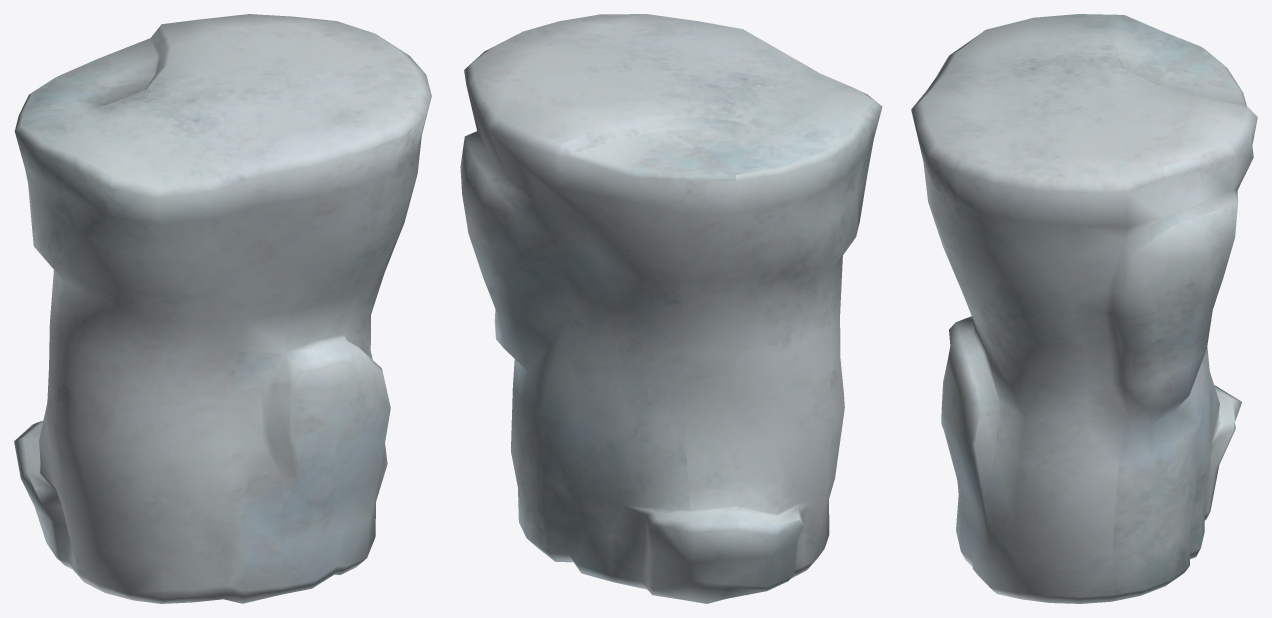
The model's file is P_RockDesert_CliffC04.obj.
The picture shows the model from 3 angles, left to right: view 1: azimuth 30°, elevation 25°; view 2: azimuth 150°, elevation 25°; view 3: azimuth 270°, elevation 25°; orthographic projection. The views are drawn at different scales.
Bounding box in the file's own units: 43.01 × 52.35 × 35.34.
